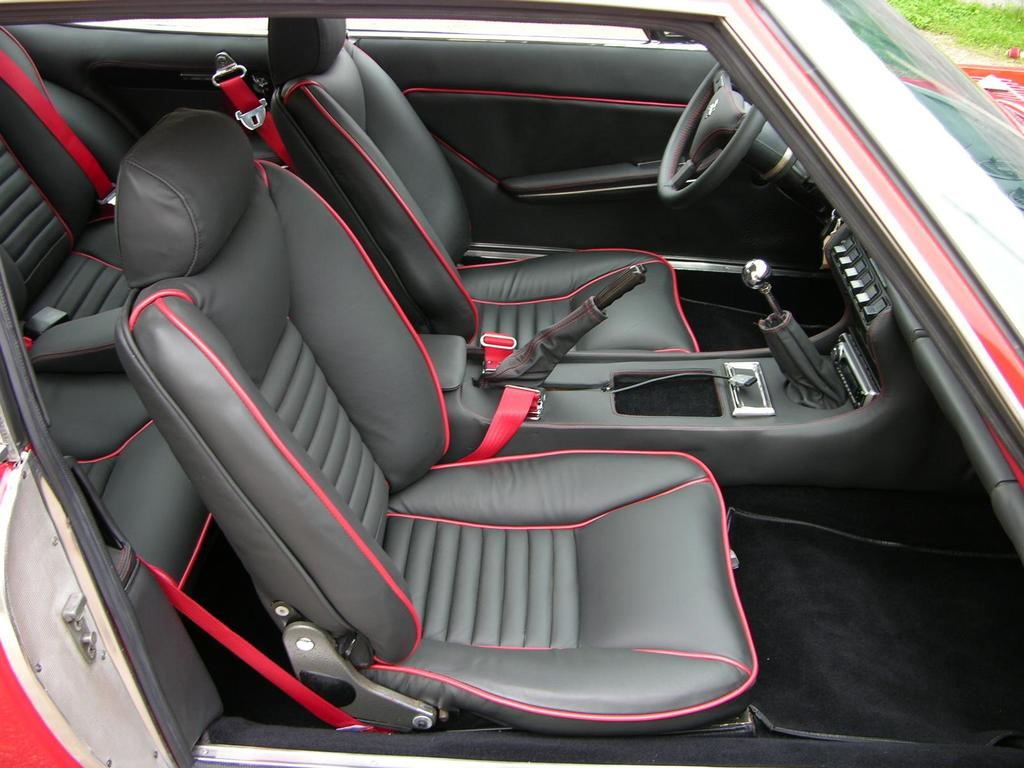Car: (17, 32, 960, 744)
